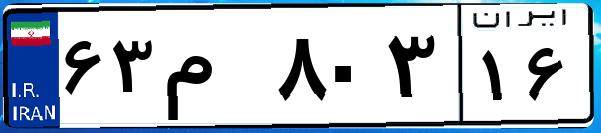0: (330, 28, 385, 110)
1: (475, 38, 525, 113)
3: (385, 28, 445, 110), (110, 28, 158, 98)
6: (57, 26, 110, 100), (525, 38, 570, 115)
8: (270, 28, 330, 110)
م: (158, 20, 270, 120)
